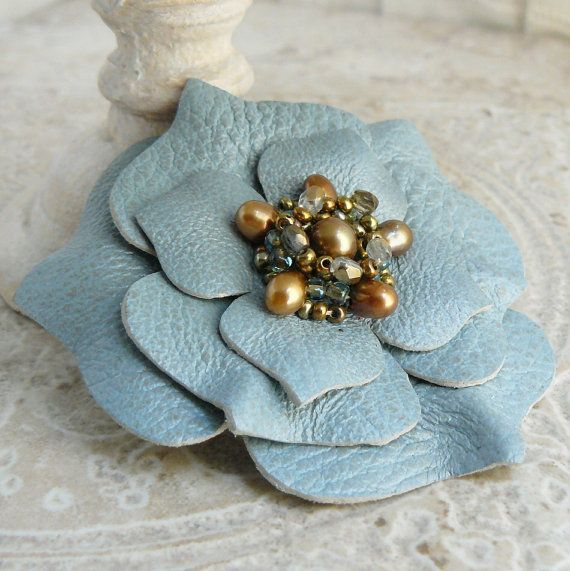cuero: (12, 78, 555, 503)
